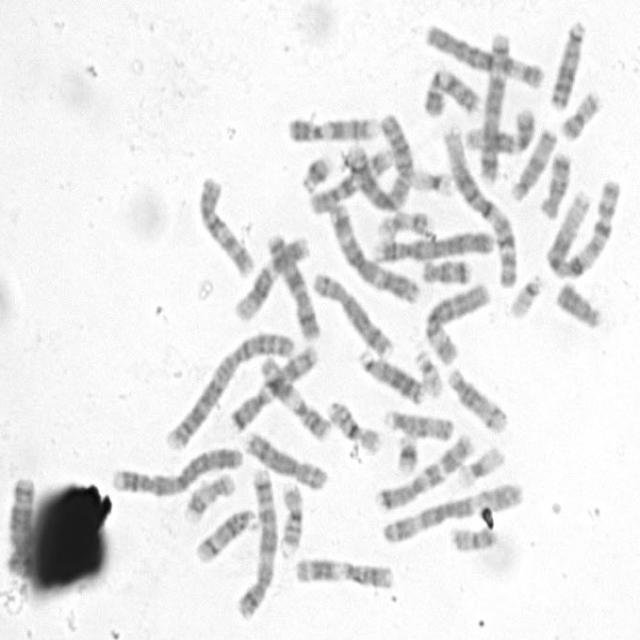A1: (440, 123, 520, 289), (543, 174, 623, 280)
A2: (161, 324, 299, 454), (342, 108, 415, 213)
A3: (379, 476, 528, 546), (326, 198, 423, 305)
B4: (107, 440, 243, 497), (368, 226, 495, 264)
B5: (232, 464, 280, 620), (475, 25, 513, 184)
C10: (193, 168, 258, 279), (303, 142, 395, 216)
C11: (257, 352, 333, 442), (289, 552, 397, 590)
C12: (232, 230, 311, 324), (463, 102, 538, 156)
C6: (420, 17, 548, 90), (420, 279, 493, 367)
C7: (372, 428, 476, 514), (224, 340, 320, 432)
C8: (309, 267, 396, 358), (241, 426, 330, 491)
C9: (420, 64, 484, 119), (283, 109, 380, 145)
D13: (354, 344, 428, 405), (546, 15, 588, 110)
D14: (443, 362, 511, 435), (190, 503, 260, 564)
D15: (507, 123, 558, 203), (381, 404, 456, 443)
E16: (322, 394, 383, 454), (276, 477, 306, 557)
E17: (180, 466, 237, 524), (374, 206, 436, 241)
E18: (536, 147, 573, 220), (417, 252, 473, 286)
F19: (453, 441, 507, 490), (409, 162, 456, 198)
F20: (557, 85, 603, 143), (446, 520, 499, 552)
G21: (297, 148, 334, 194), (391, 428, 421, 477)
G22: (504, 268, 544, 320), (411, 343, 445, 398)
X: (264, 228, 325, 341)
Y: (552, 278, 605, 330)
